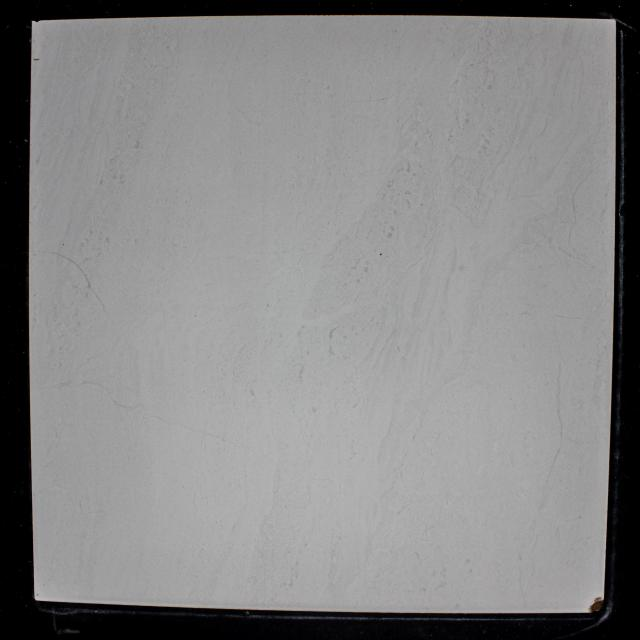edge-chipping: (587, 594, 605, 614), (30, 18, 50, 25)
hole: (380, 252, 382, 256), (62, 243, 64, 246)
line: (47, 251, 114, 321), (33, 58, 40, 61)
